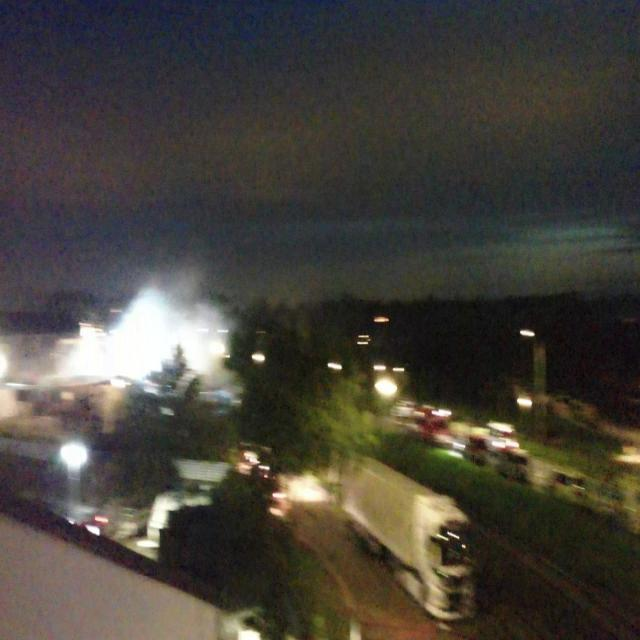Smoke: (58, 260, 238, 388)
